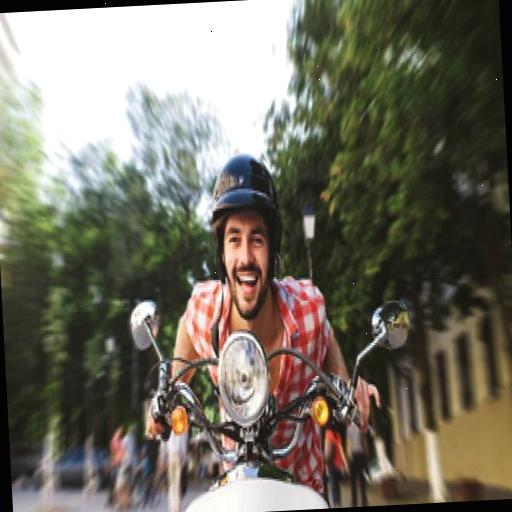helmet: (118, 102, 379, 498)
